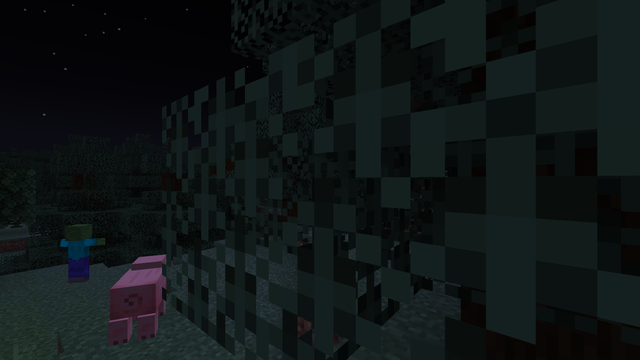cochons: (104, 263, 177, 346)
zombies: (66, 224, 91, 285)
